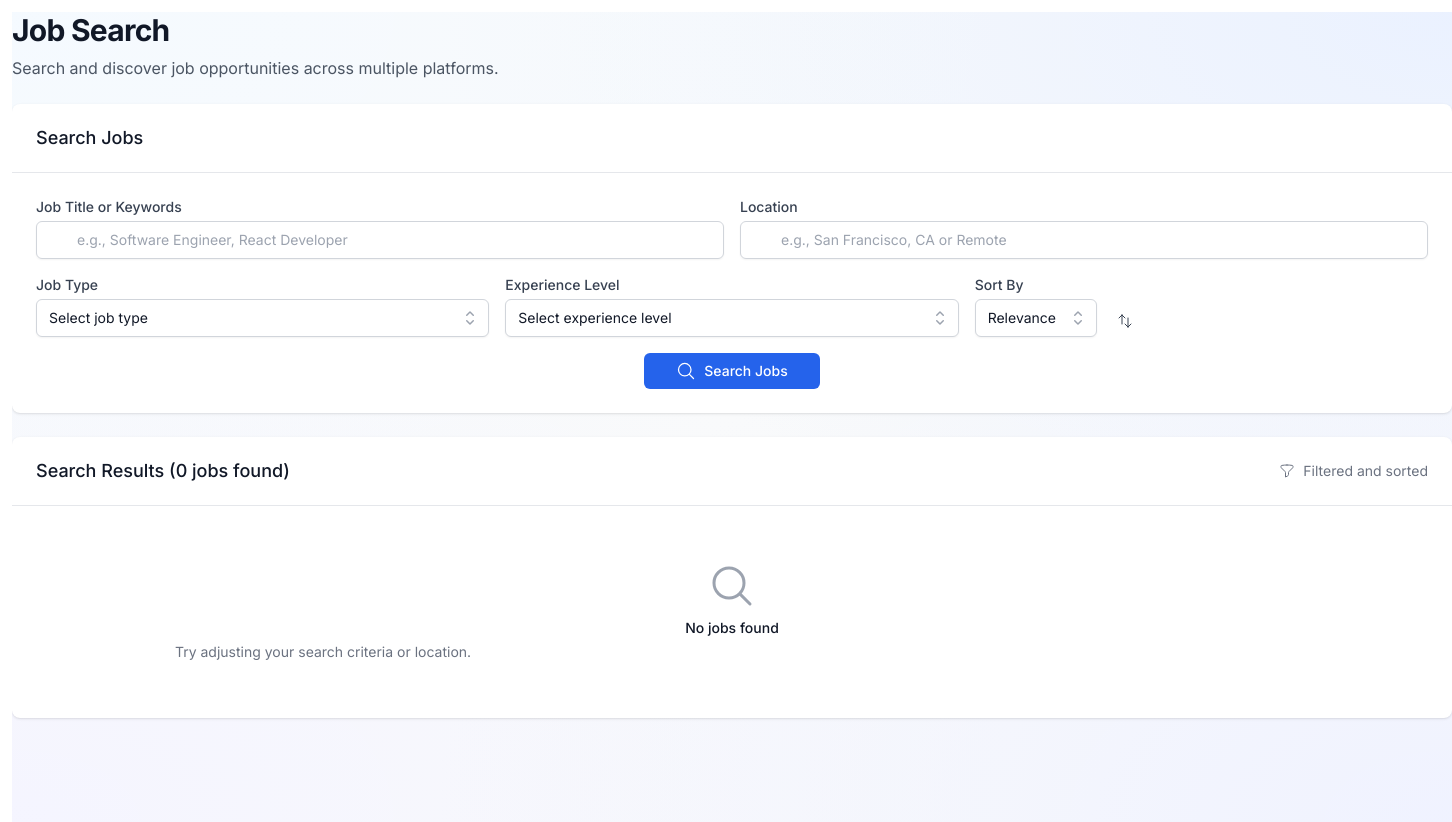
Test: JobSearch Page › performs search and displays results
This screenshot has width=1452, height=822.
Type "Software Engineer" into the field with placeholder "e.g., Software Engineer, React Developer" at point(380, 240), box [36,221,724,259]
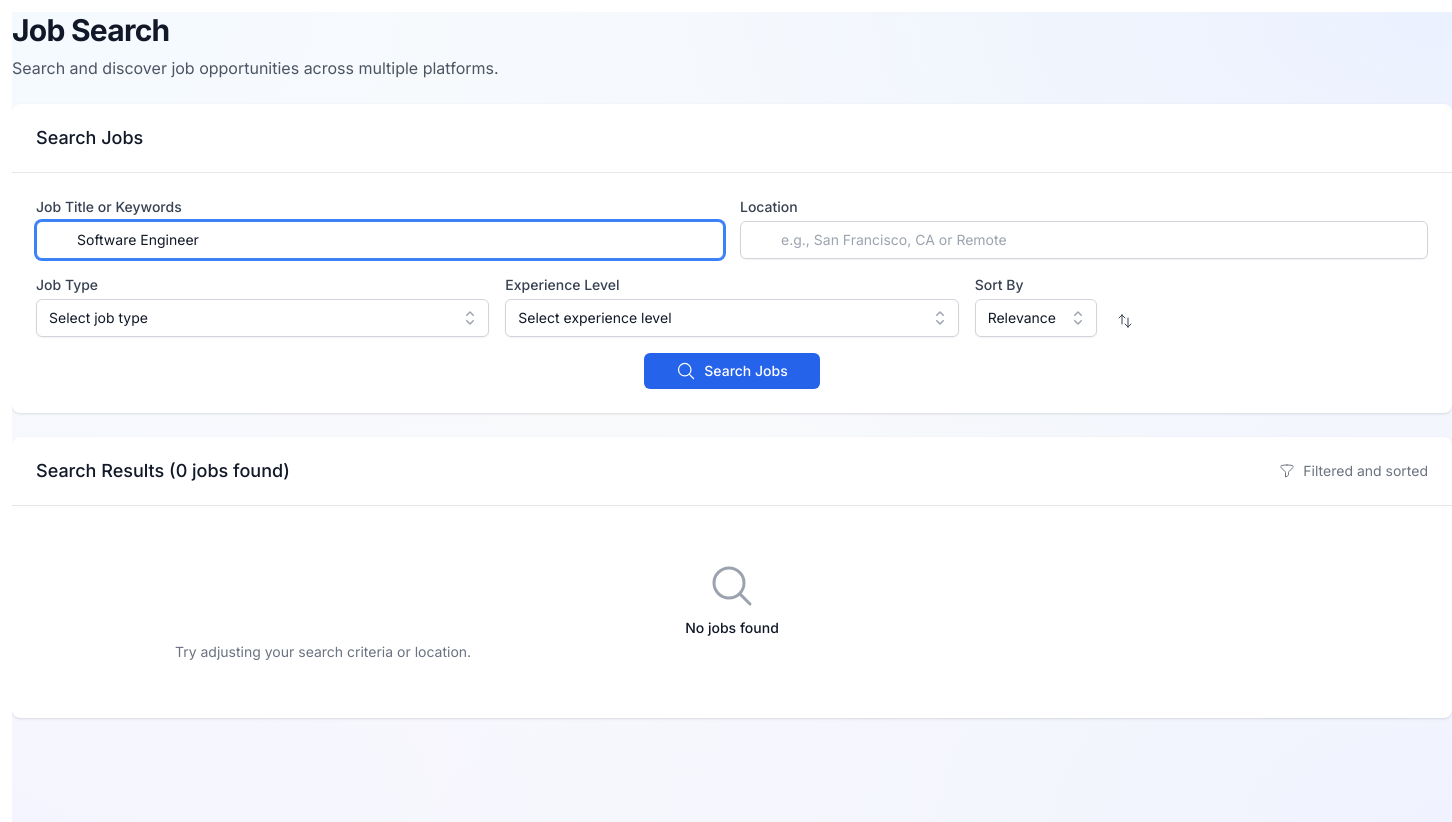
Click the button "Search Jobs" at point(732, 371), box [644,353,820,389]
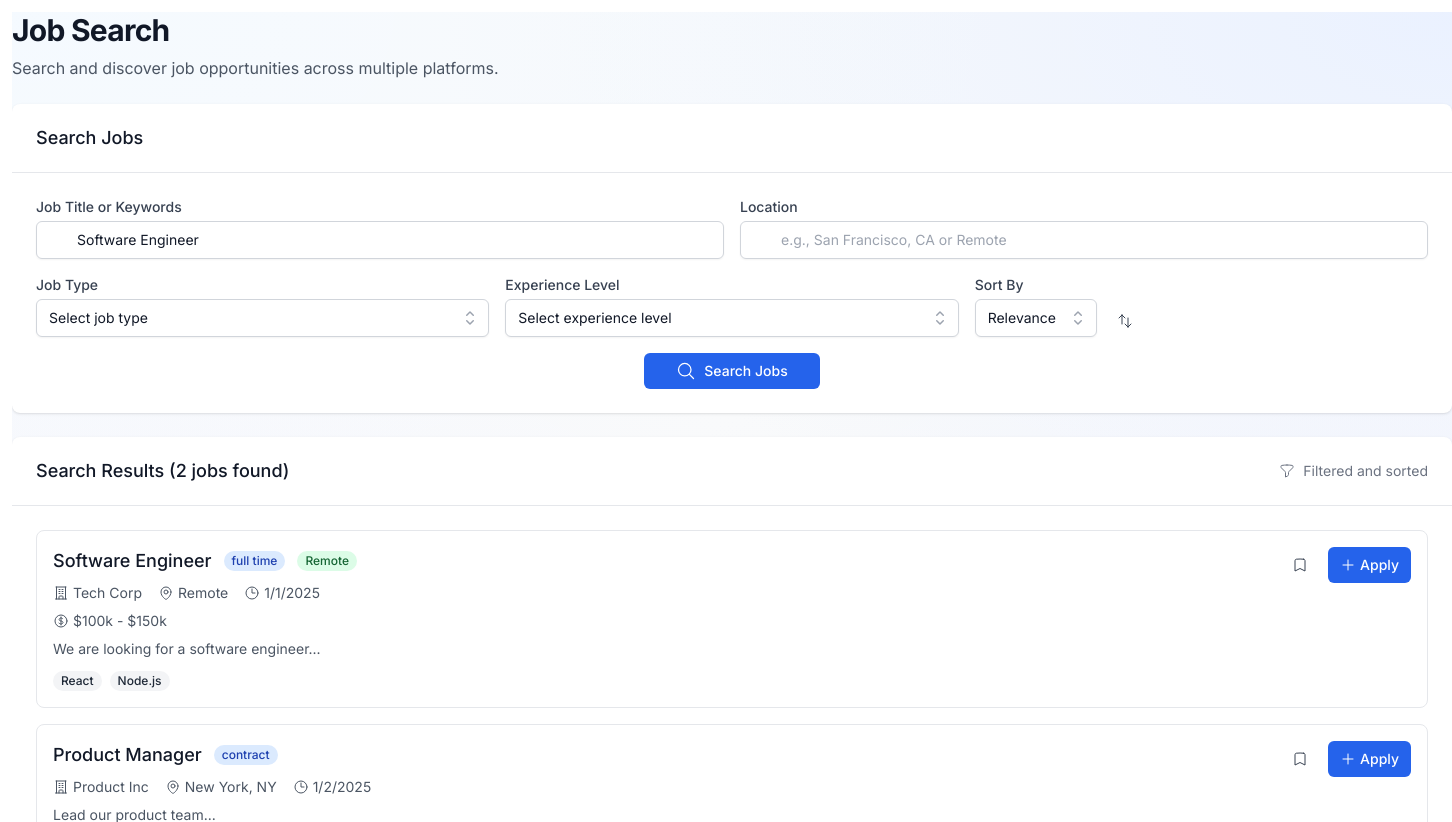
Result: the heading "Software Engineer" is shown at [53,547,212,575]
Result: the text "Tech Corp" is shown at [73,583,142,603]
Result: the heading "Product Manager" is shown at [53,741,202,769]
